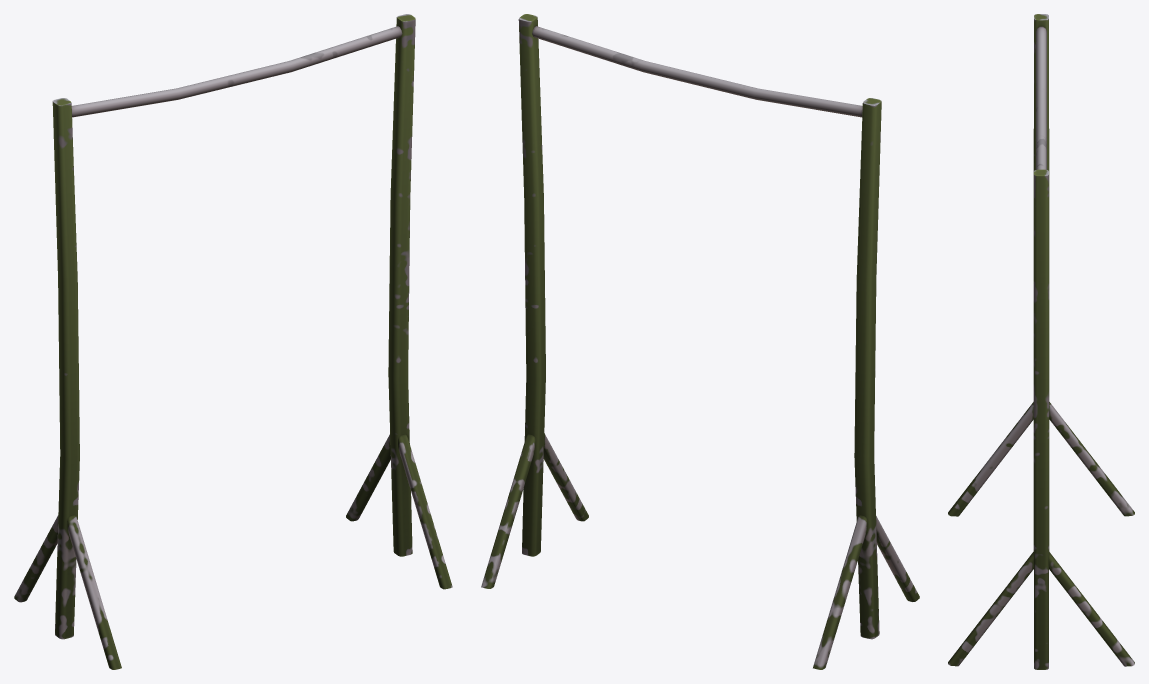
Rendered from HorizontalBar01_1.FBX.
3 renders of one model, left to right at view 1: azimuth 30°, elevation 25°; view 2: azimuth 150°, elevation 25°; view 3: azimuth 270°, elevation 25°, orthographic. The views are drawn at different scales.
Visible parts, largest first — view 1: HorizontalBar01_1; view 2: HorizontalBar01_1; view 3: HorizontalBar01_1.
Boxes of the visible parts, left/top/right/bottom form: HorizontalBar01_1: left=14, top=14, right=452, bottom=669; HorizontalBar01_1: left=481, top=14, right=919, bottom=669; HorizontalBar01_1: left=948, top=14, right=1134, bottom=669.
Size of what is drawn, in the model's own units: 2.14 by 3.05 by 1.04.
